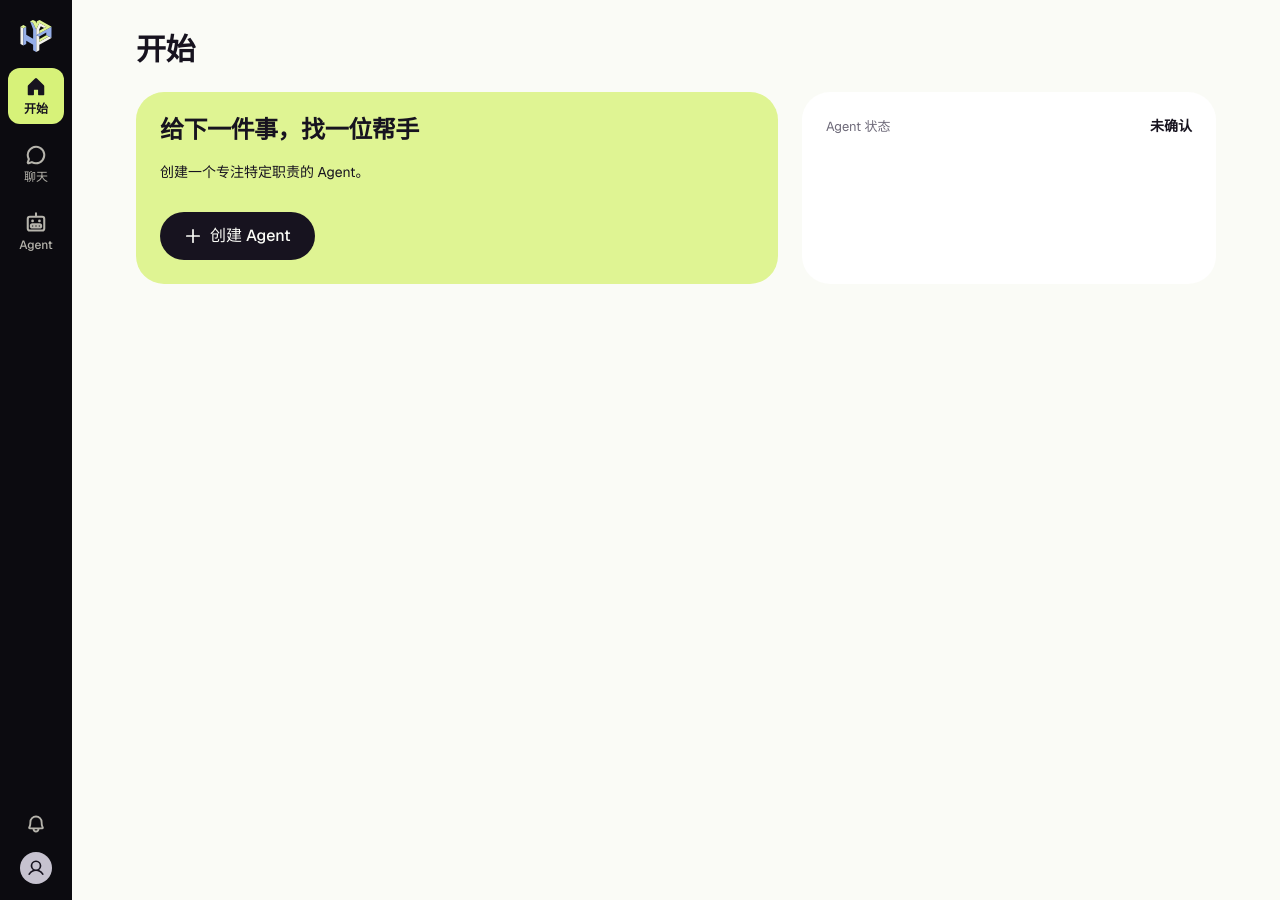
agent detail four-tab shell (implG4) › requires vendor/model for a Hyprial Key before dispatch
Later steps or results of the test are not shown.
Click the button "Agent".
click(36, 232)  # box [8,204,64,260]
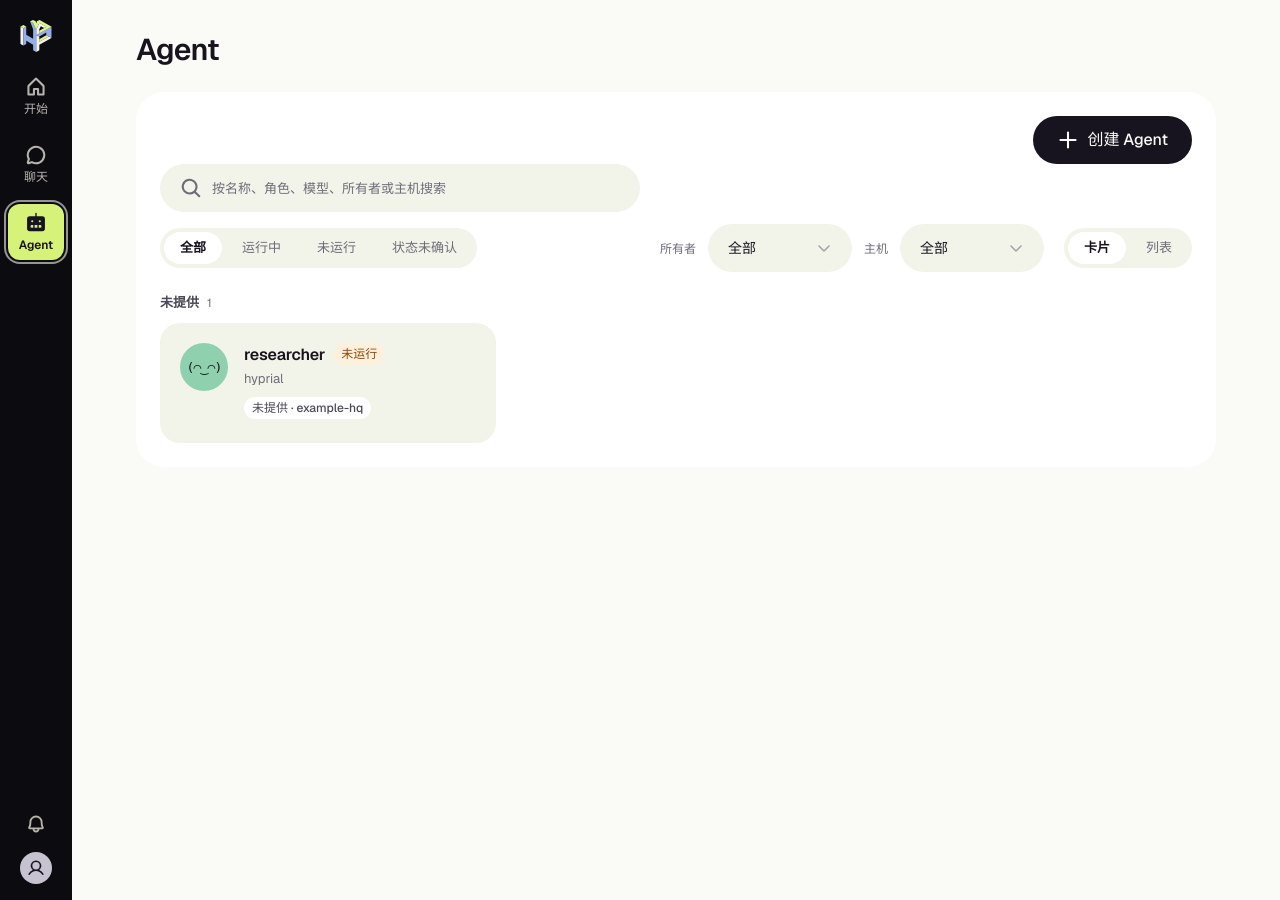
Click the button with test id "contact-researcher".
click(204, 367)  # box [160,323,496,443]
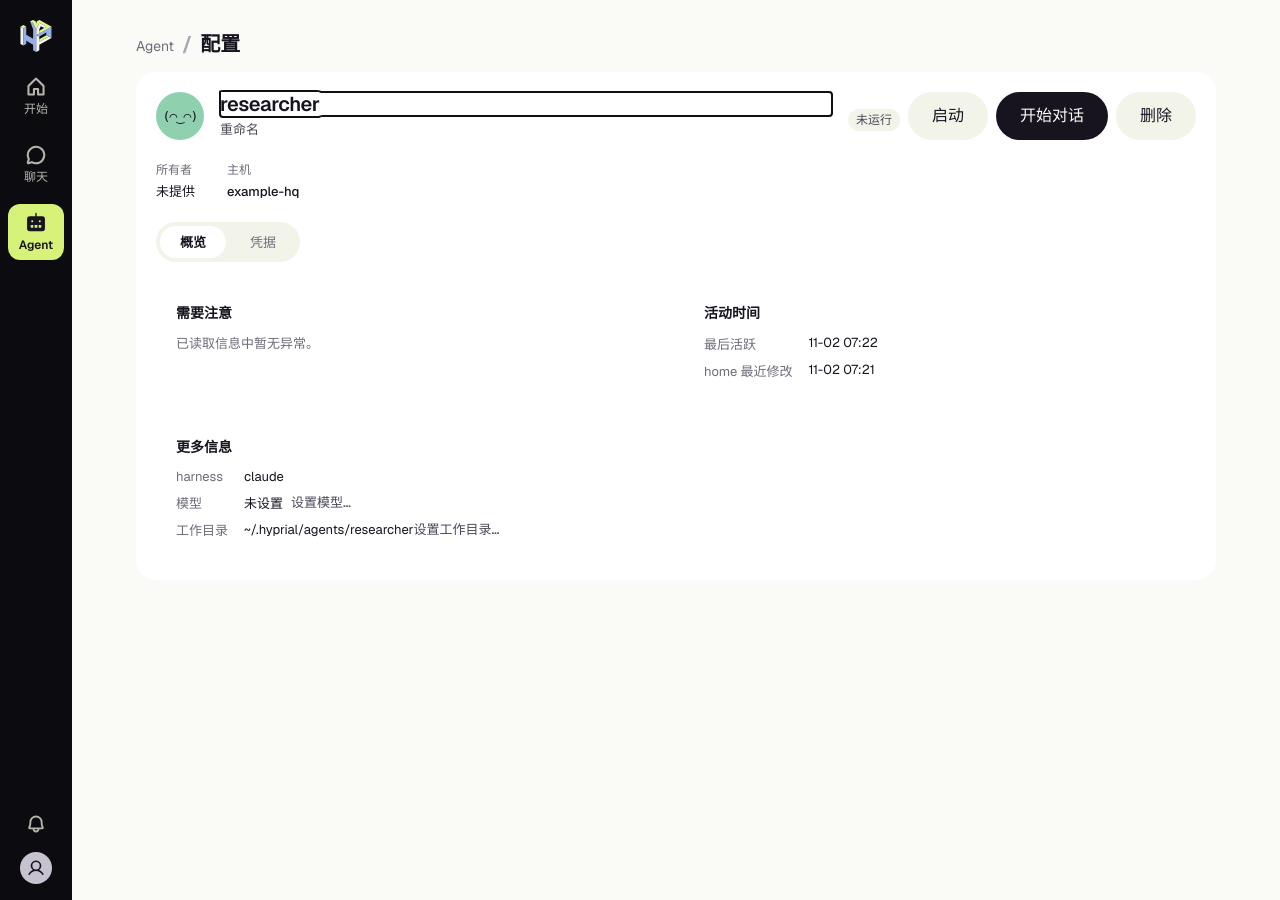
Click the button "设置模型…".
click(321, 502)  # box [291,492,351,512]
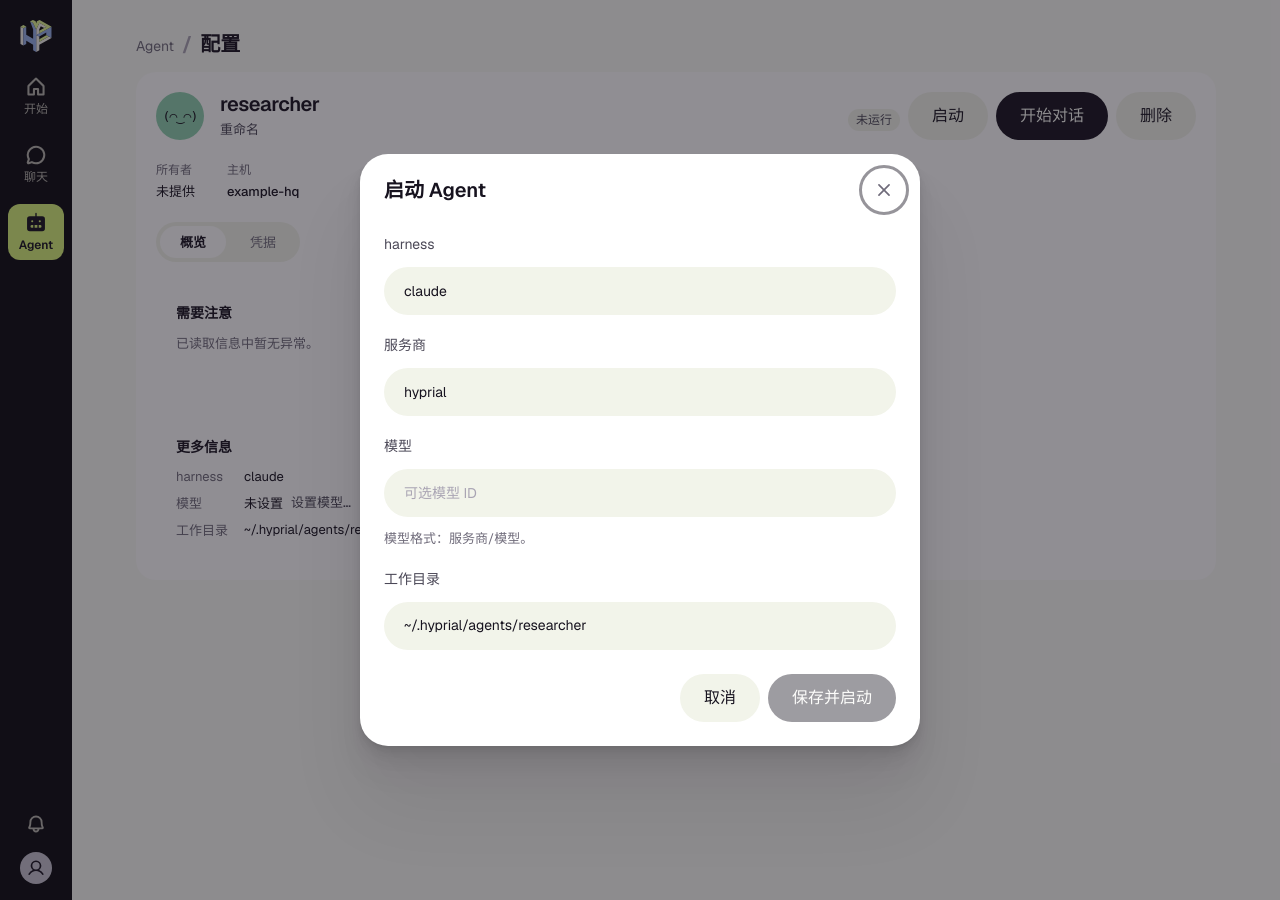
Check: the button "保存并启动" is disabled, box [768,674,896,722]
Type "deepseek-flash" into the field labelled "模型".
click(640, 493); type("deepseek-flash")  # box [384,469,896,517]
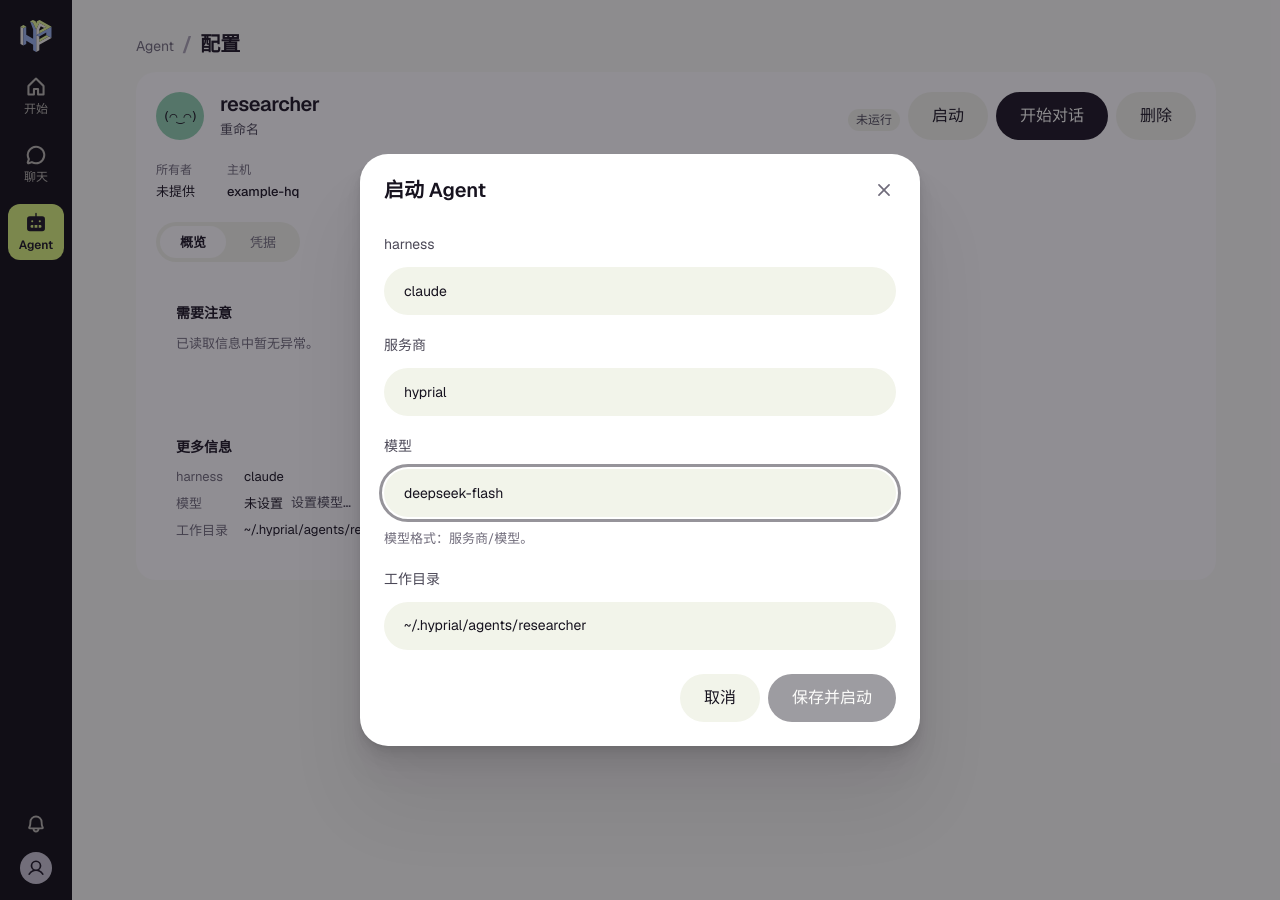
Check: the button "保存并启动" is disabled, box [768,674,896,722]
